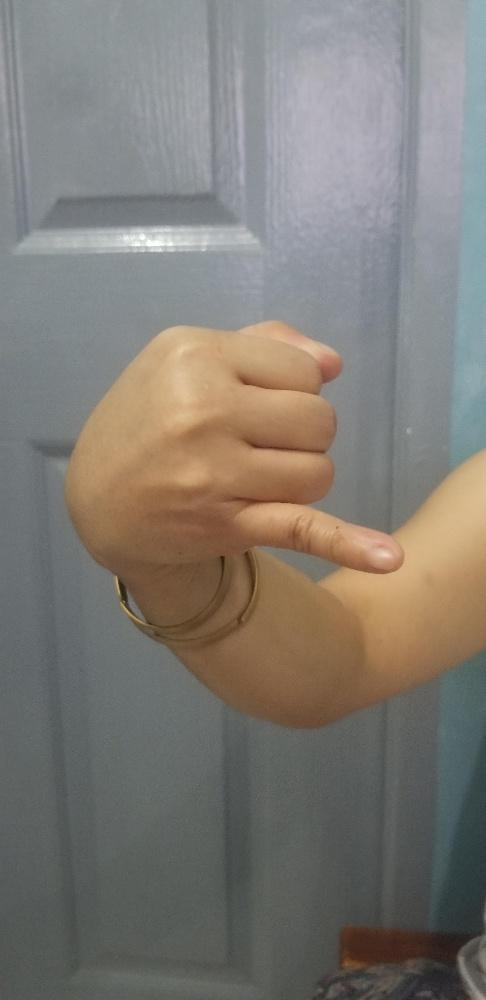j: (59, 316, 404, 577)
